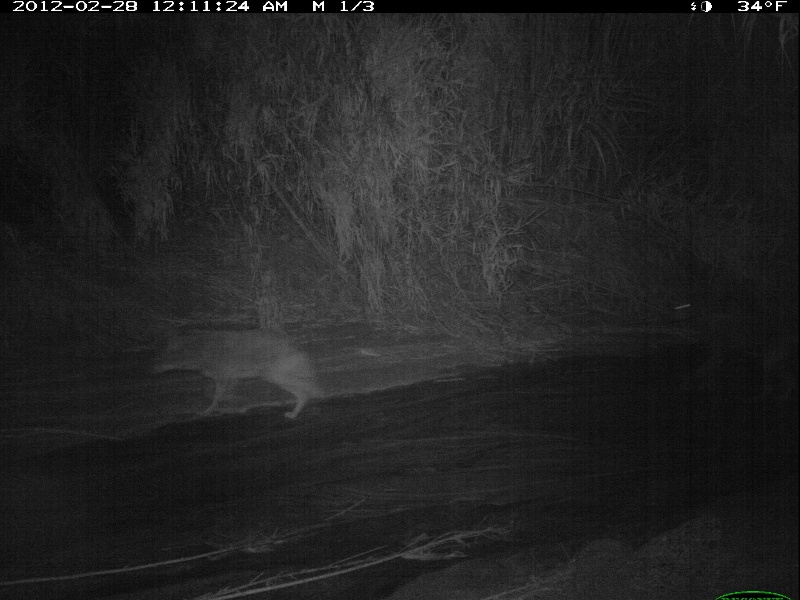coyote: (151, 324, 327, 423), (669, 278, 800, 390)
